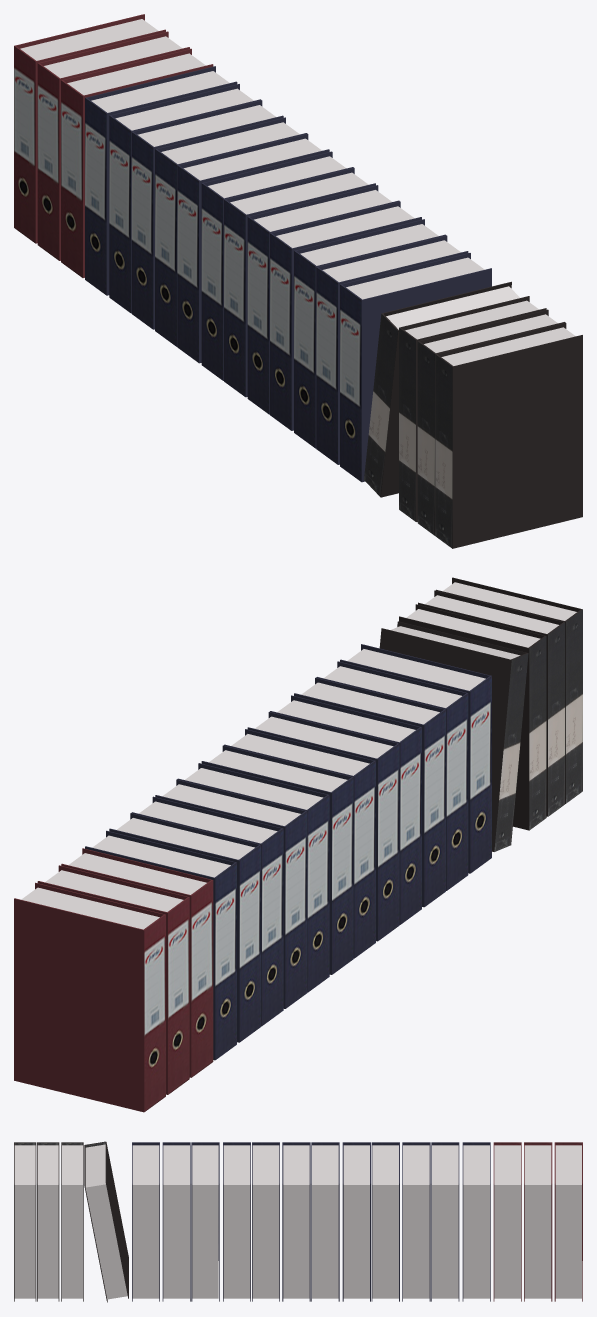
Rendered from Files 2.FBX.
3 renders of one model, top to bottom at view 1: azimuth 30°, elevation 25°; view 2: azimuth 150°, elevation 25°; view 3: azimuth 270°, elevation 25°, orthographic. The views are drawn at different scales.
Visible parts, largest first — view 1: Files 2; view 2: Files 2; view 3: Files 2.
Part boxes in pixels (x1=…): Files 2: x1=14, y1=14, x2=582, y2=548; Files 2: x1=14, y1=577, x2=582, y2=1112; Files 2: x1=14, y1=1141, x2=582, y2=1302.
Size of the model in its own units: 18.11 by 105 by 24.5.
Materials: 1 (1 with a texture image).
